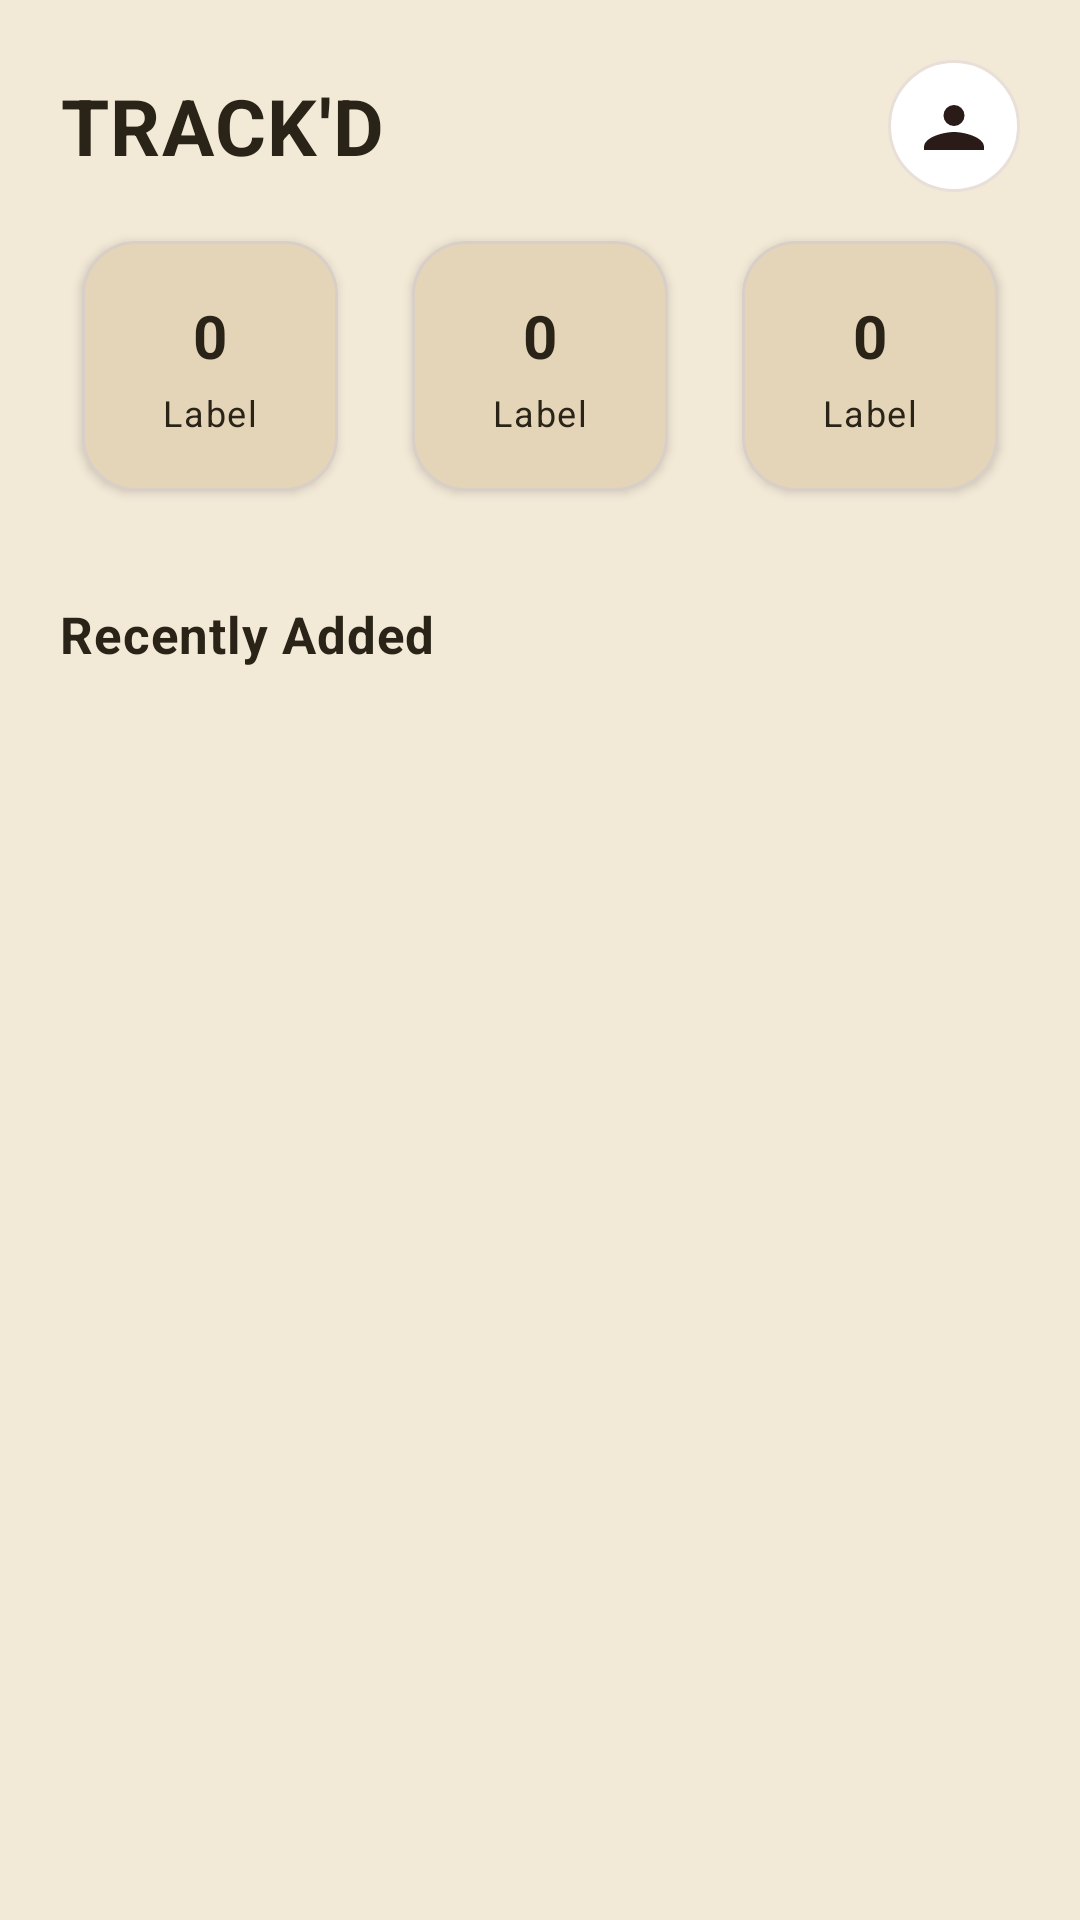

Named icons in this screenshot (1080*1920) and their centers, [x,y]:
profile: [954,126]
